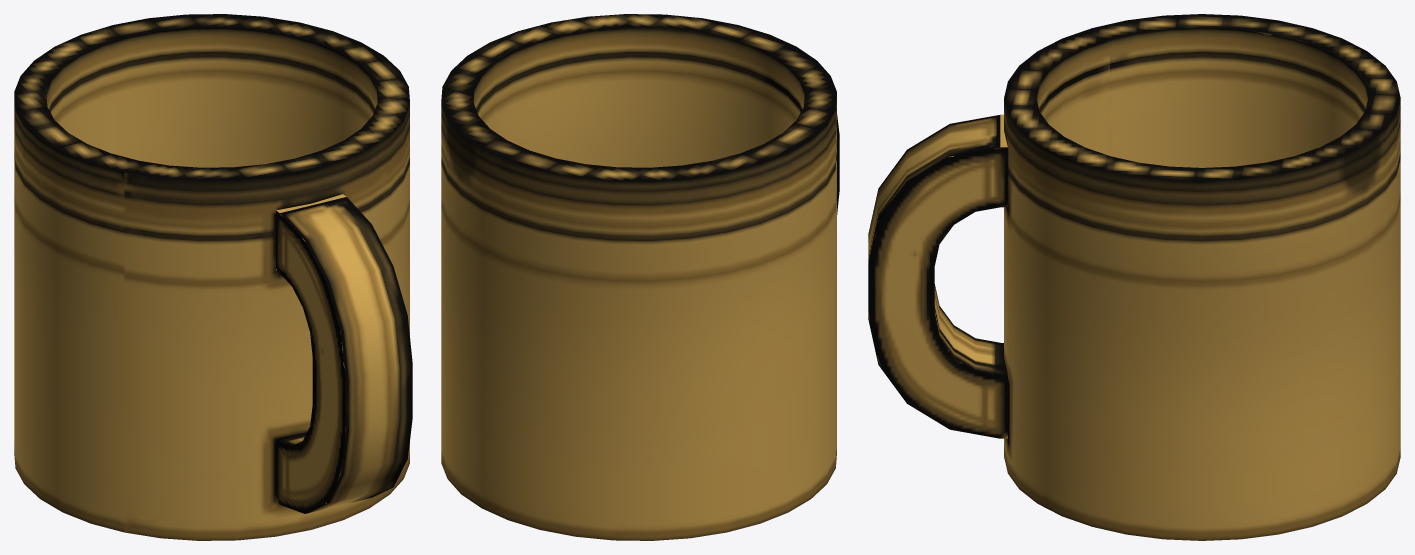
Rendered from cup.fbx.
3 views of the same model, side by side, from view 1: azimuth 30°, elevation 25°; view 2: azimuth 150°, elevation 25°; view 3: azimuth 270°, elevation 25° (orthographic).
Visible parts, largest first — view 1: Cylinder; view 2: Cylinder; view 3: Cylinder.
Boxes of the visible parts, x1,y1,x2,y2 form: Cylinder: [14, 14, 412, 540]; Cylinder: [441, 14, 839, 540]; Cylinder: [868, 14, 1400, 540].
Size of the model in its own units: 105 by 105 by 141.
